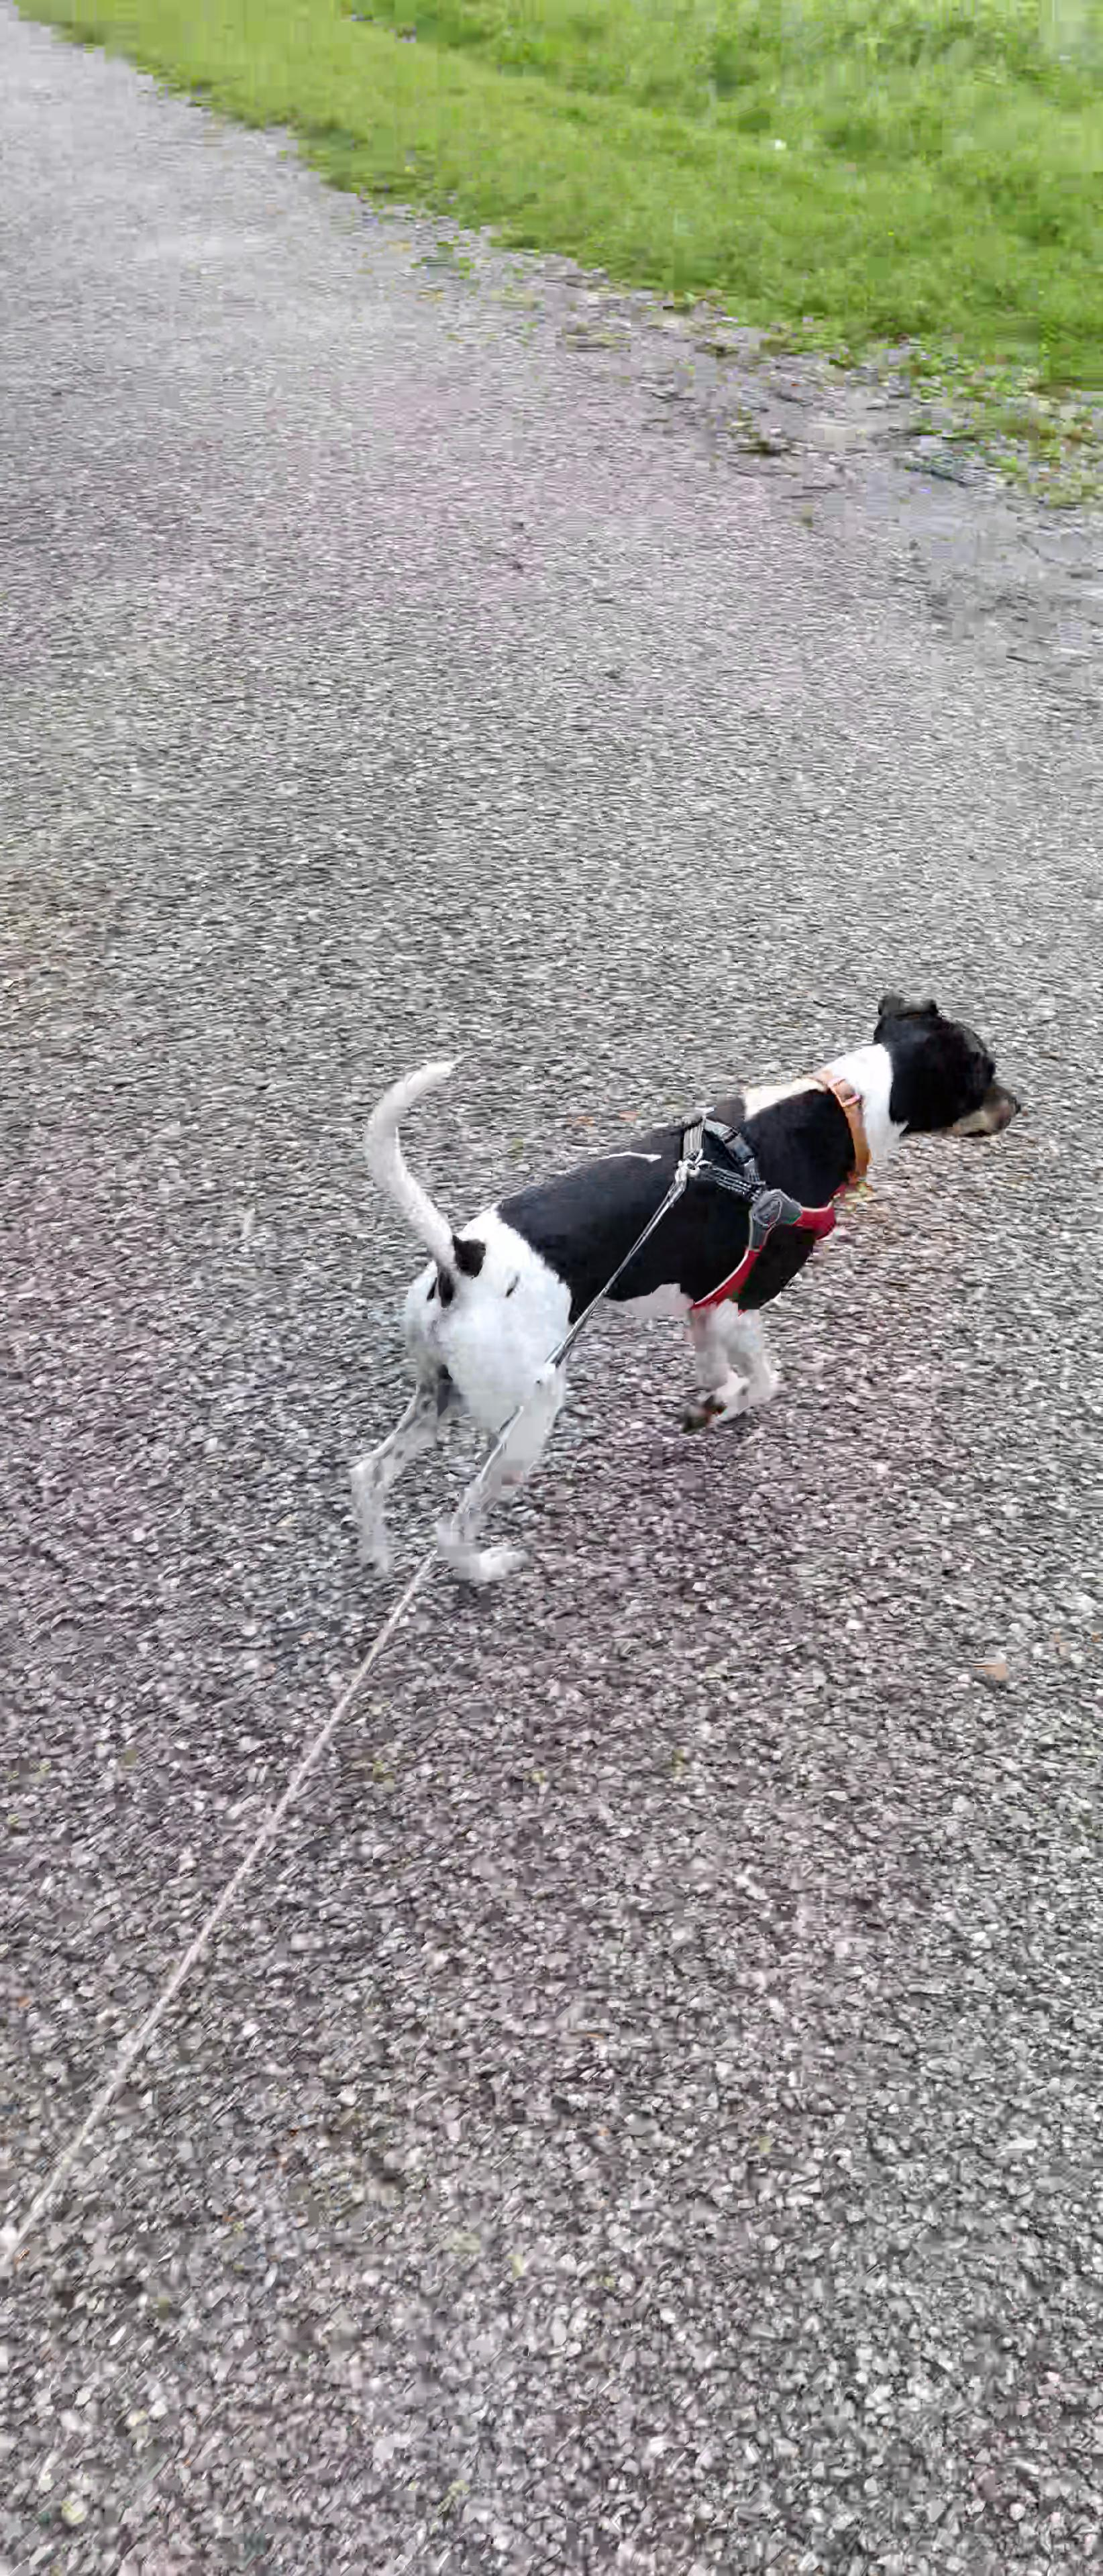Dog: (345, 989, 1029, 1594)
